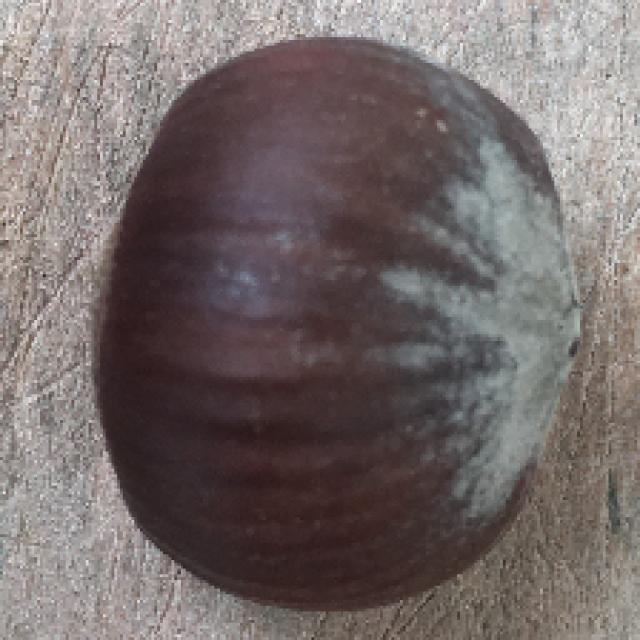DamagedHazelnut: (88, 34, 578, 612)
